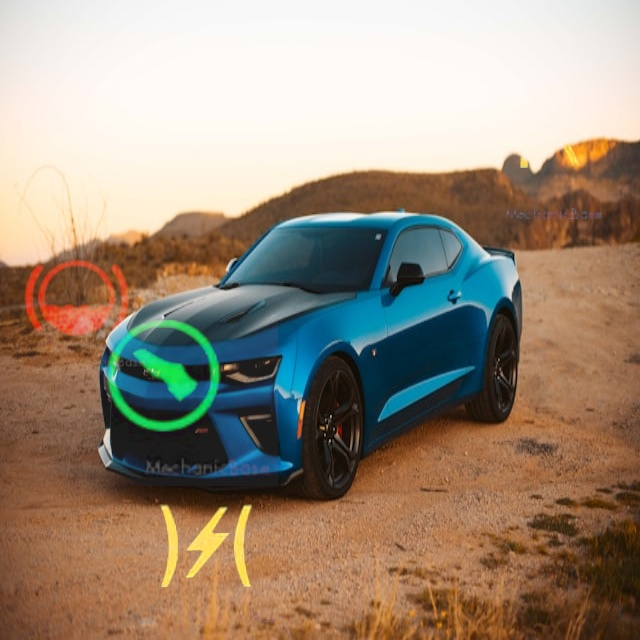symbol: (59, 267, 278, 486), (438, 57, 609, 228), (123, 464, 290, 631), (2, 225, 151, 374)
